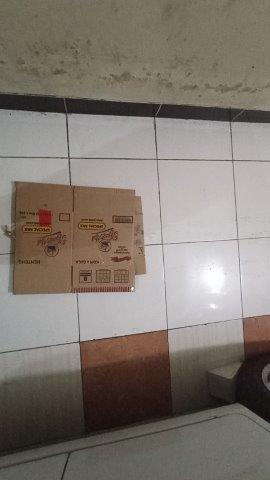kardus: (13, 183, 145, 290)
